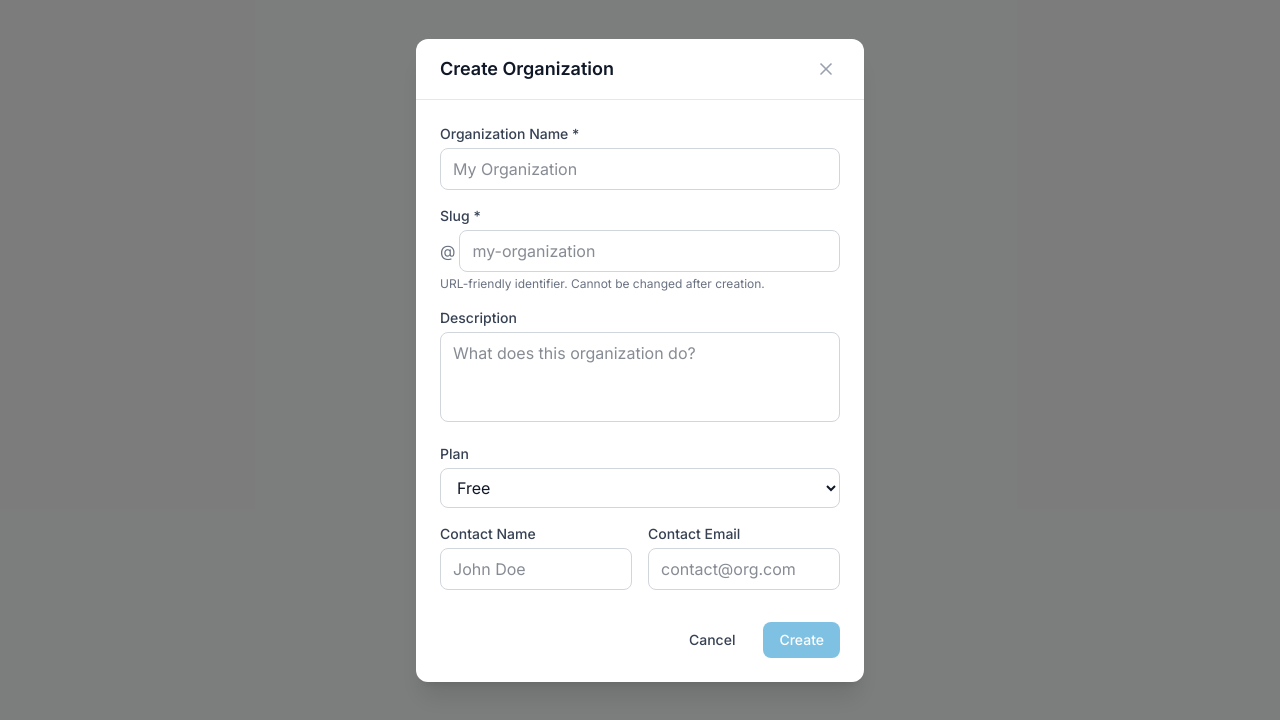
Test: OrganizationFormModal › auto-generates slug from name in create mode
This screenshot has width=1280, height=720.
In the field with placeholder "My Organization": (640, 168) [440,148,840,190], type "Hello World"
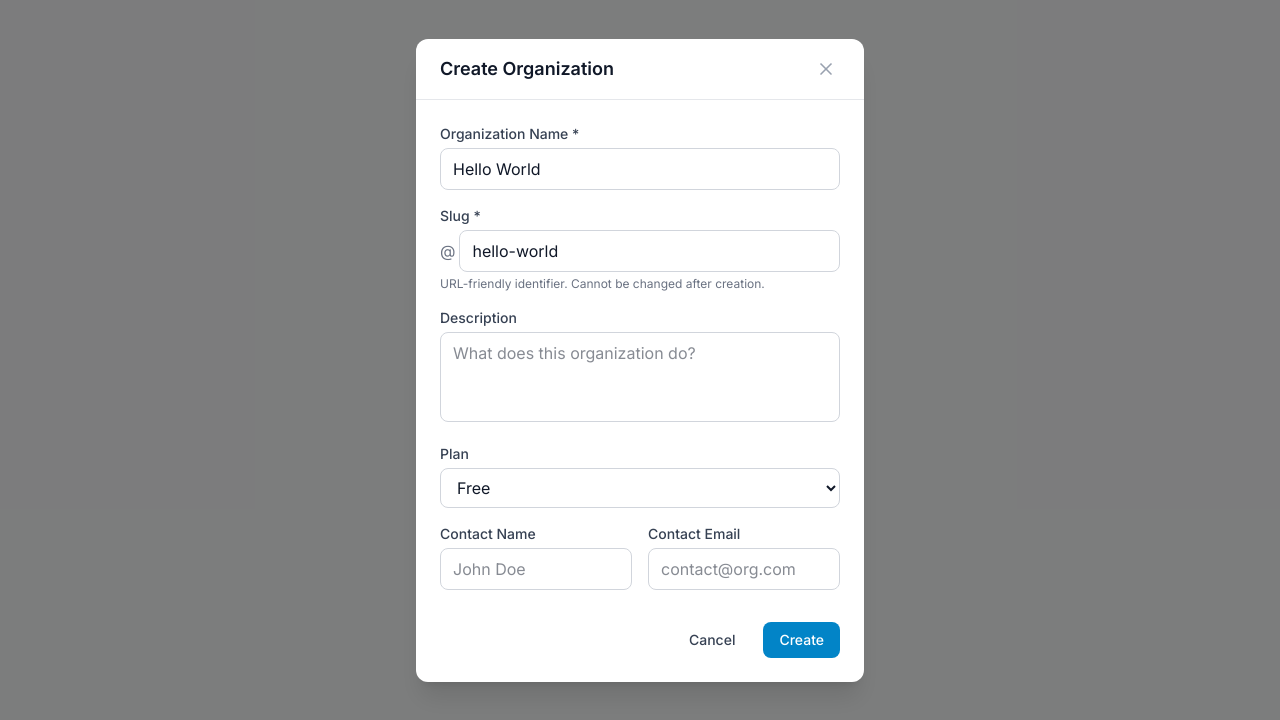
expect the field showing "hello-world" below "Slug *" is shown: met, box [460,230,840,272]
